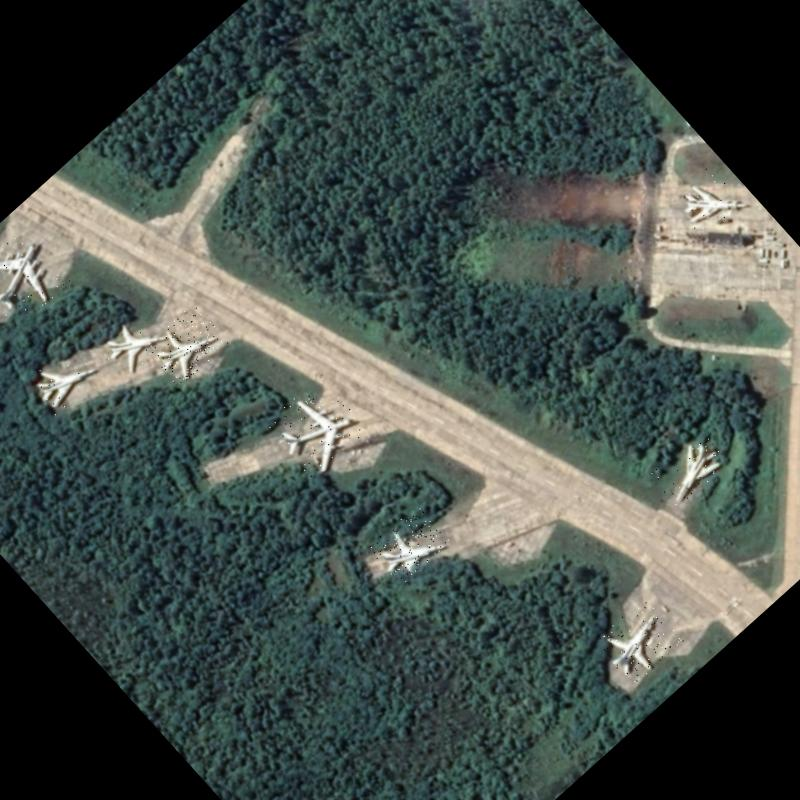A12: (594, 596, 684, 686), (143, 302, 229, 387), (668, 159, 754, 244), (365, 503, 450, 586), (648, 428, 731, 510), (24, 335, 106, 416), (94, 302, 174, 382)
A17: (262, 374, 372, 482), (0, 222, 74, 331)
